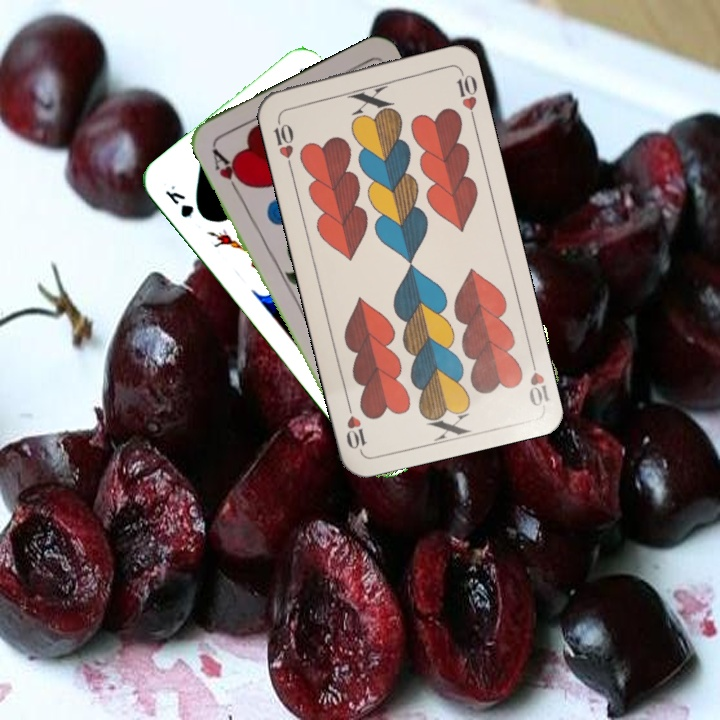GK: (161, 181, 197, 221)
H10: (269, 112, 297, 171), (525, 350, 552, 409)
HA: (208, 144, 249, 198)
